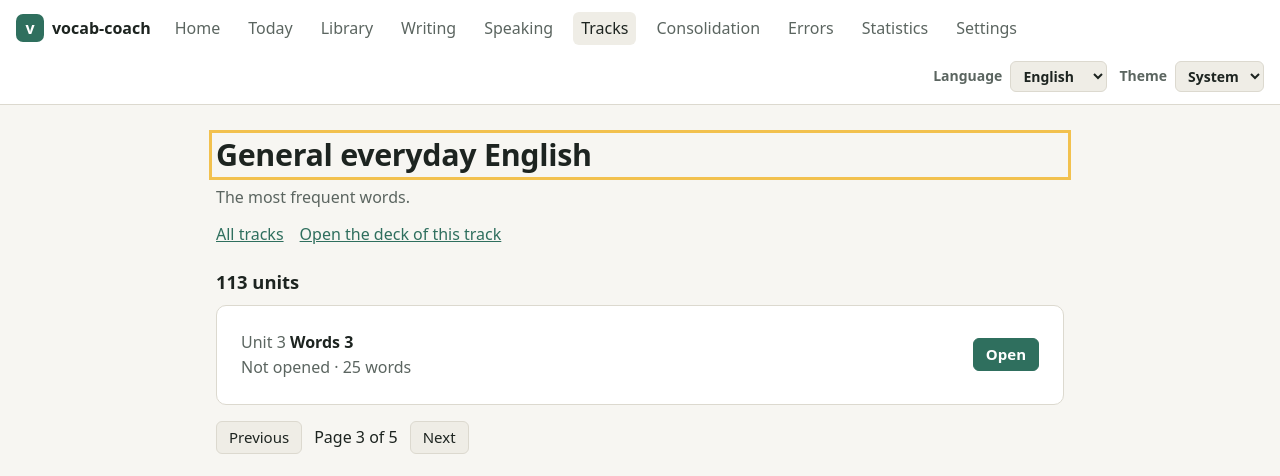
it: /curriculum/:code › keeps the page in the URL: 25 units per request, Next and Previous
expect the text "Page 3 of 5" is shown: met, box [314,425,398,450]
Step 1. Click the button "Next" → {"x": 439, "y": 437}, box [410,420,469,454]
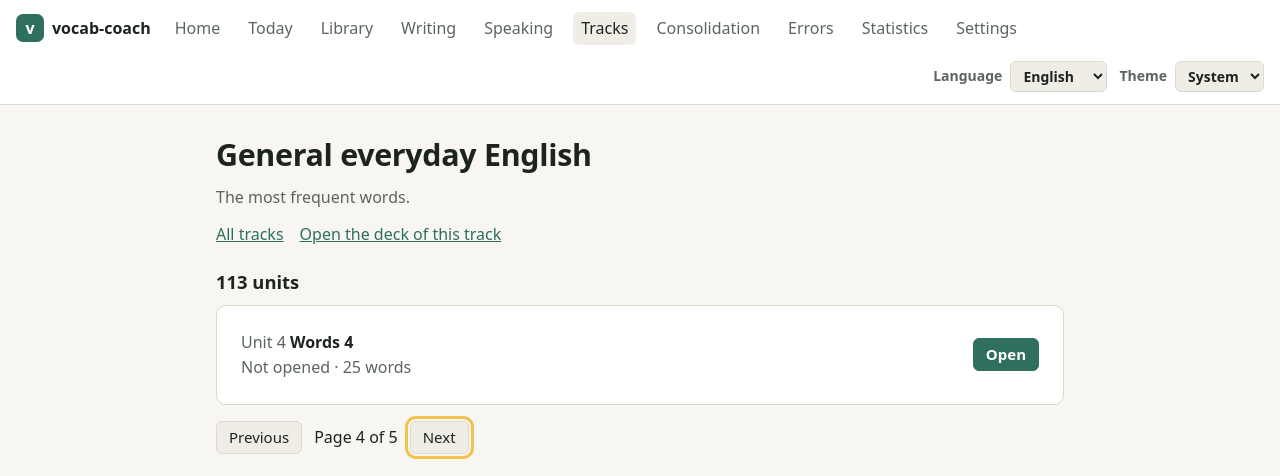
expect the text "Page 4 of 5" is shown: met, box [314,425,398,450]
Step 2. Click the button "Previous" → {"x": 259, "y": 437}, box [216,420,302,454]
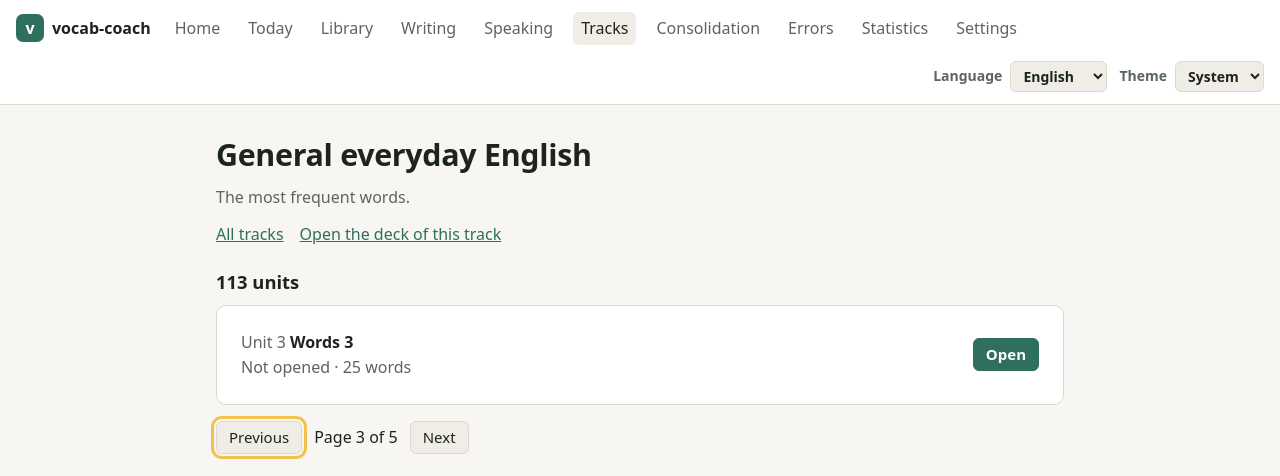
Step 3. Click the button "Previous" → {"x": 259, "y": 437}, box [216,420,302,454]
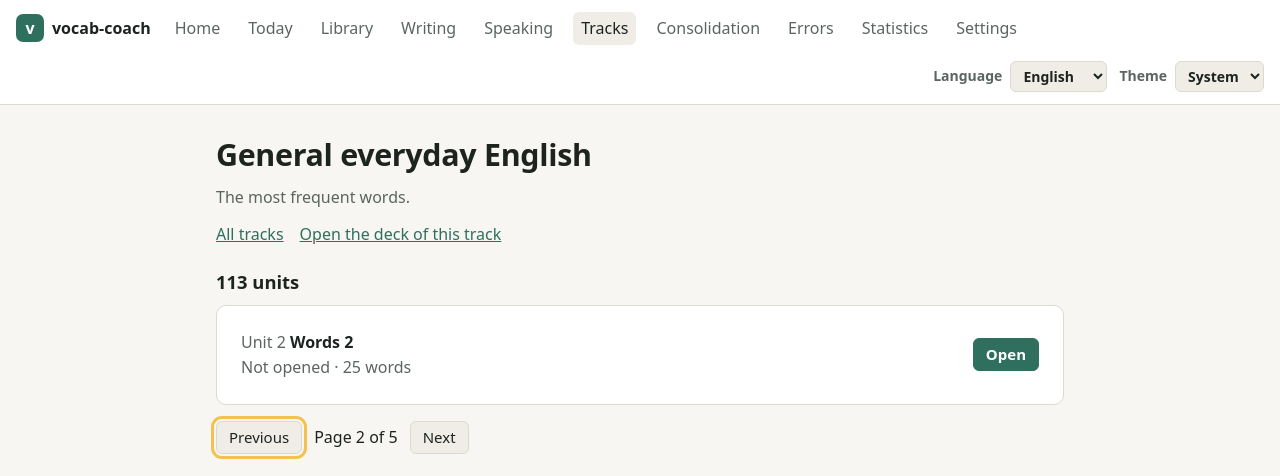
Step 4. Click the button "Previous" → {"x": 259, "y": 437}, box [216,420,302,454]
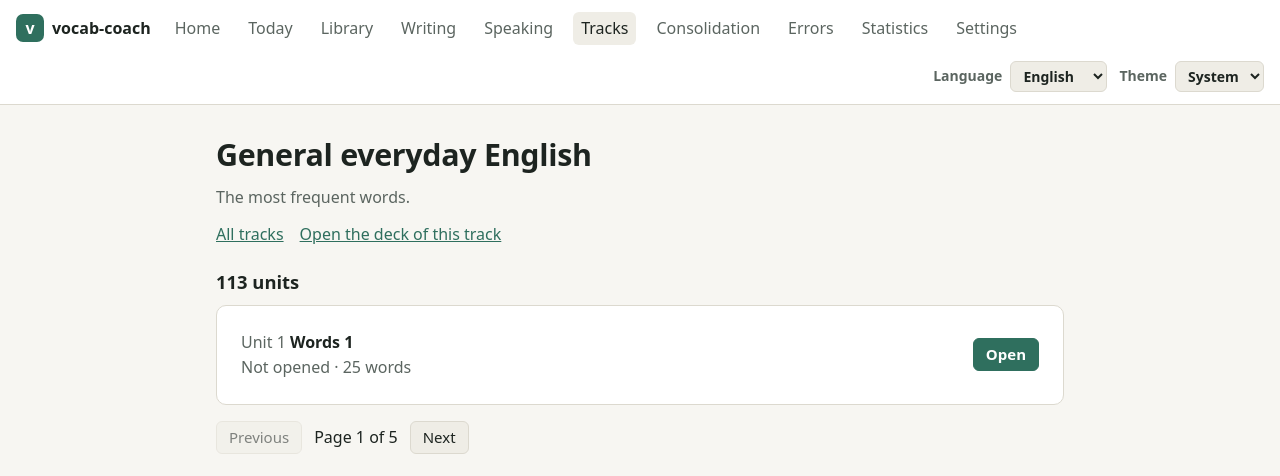
expect the text "Page 1 of 5" is shown: met, box [314,425,398,450]
expect the button "Previous" is disabled: met, box [216,420,302,454]
